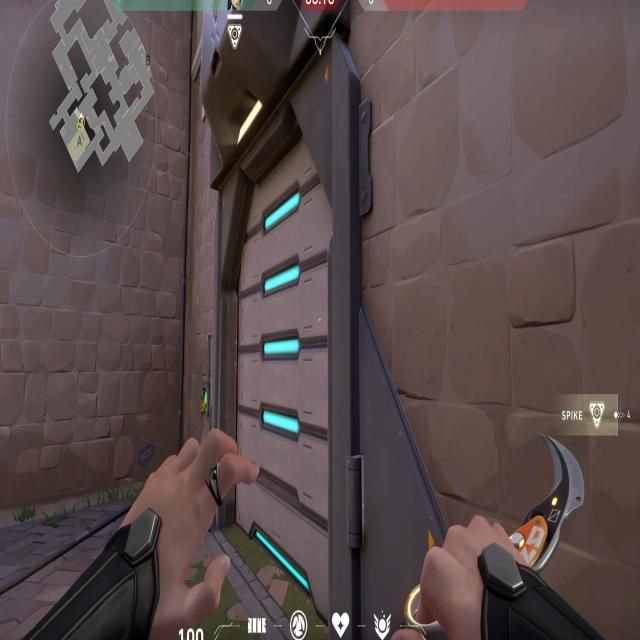A_Door: (198, 51, 366, 621)
